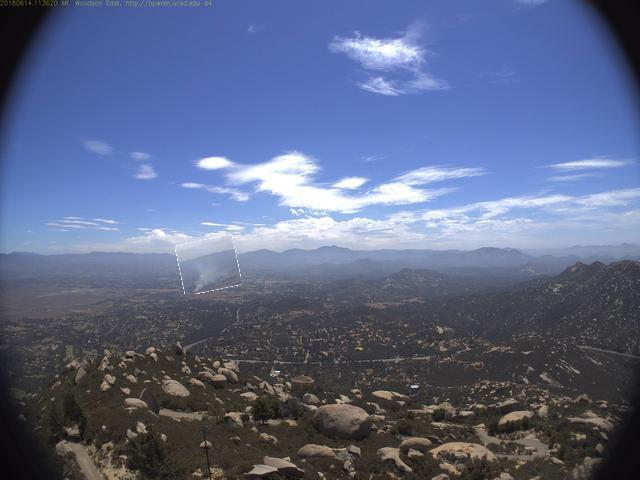smoke: (179, 238, 241, 294)
